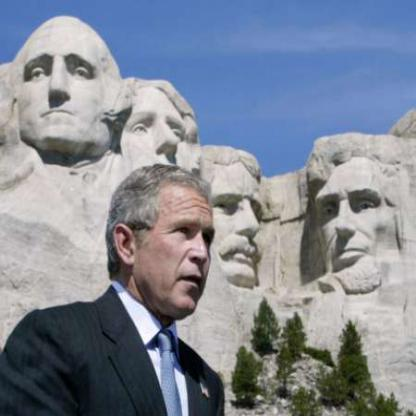face: (308, 137, 405, 294), (16, 18, 115, 162), (135, 175, 223, 321), (192, 150, 277, 293), (110, 84, 196, 206)
